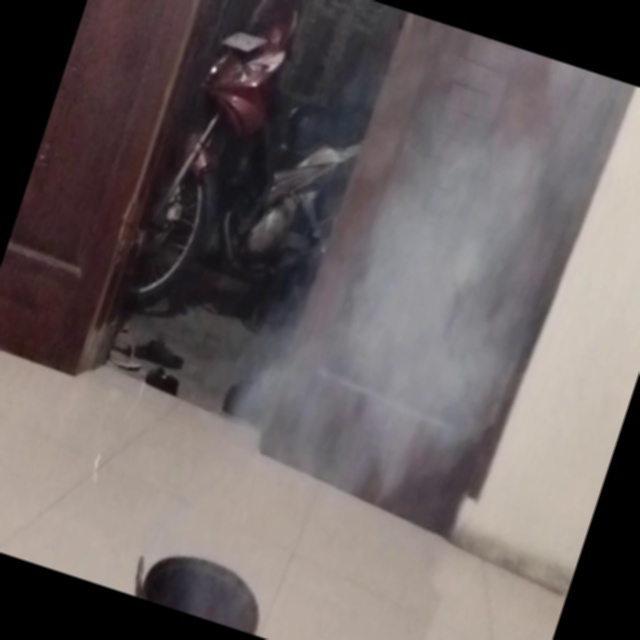smoke: (127, 283, 546, 630), (275, 4, 640, 400)
